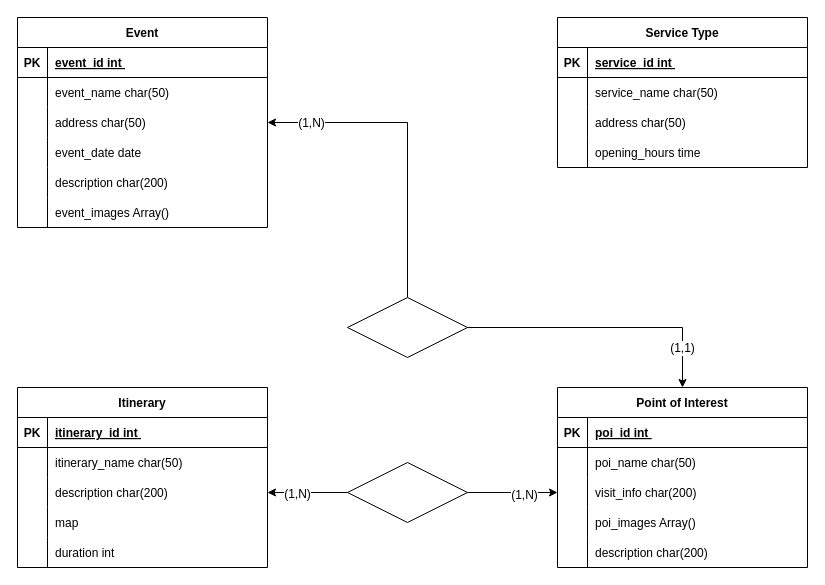
This 825x585 diagram has some shape labels left out. Each missing label, with the centre of its shape:
HOSTED BY: (407,327)
INVOLVED IN: (407,492)
